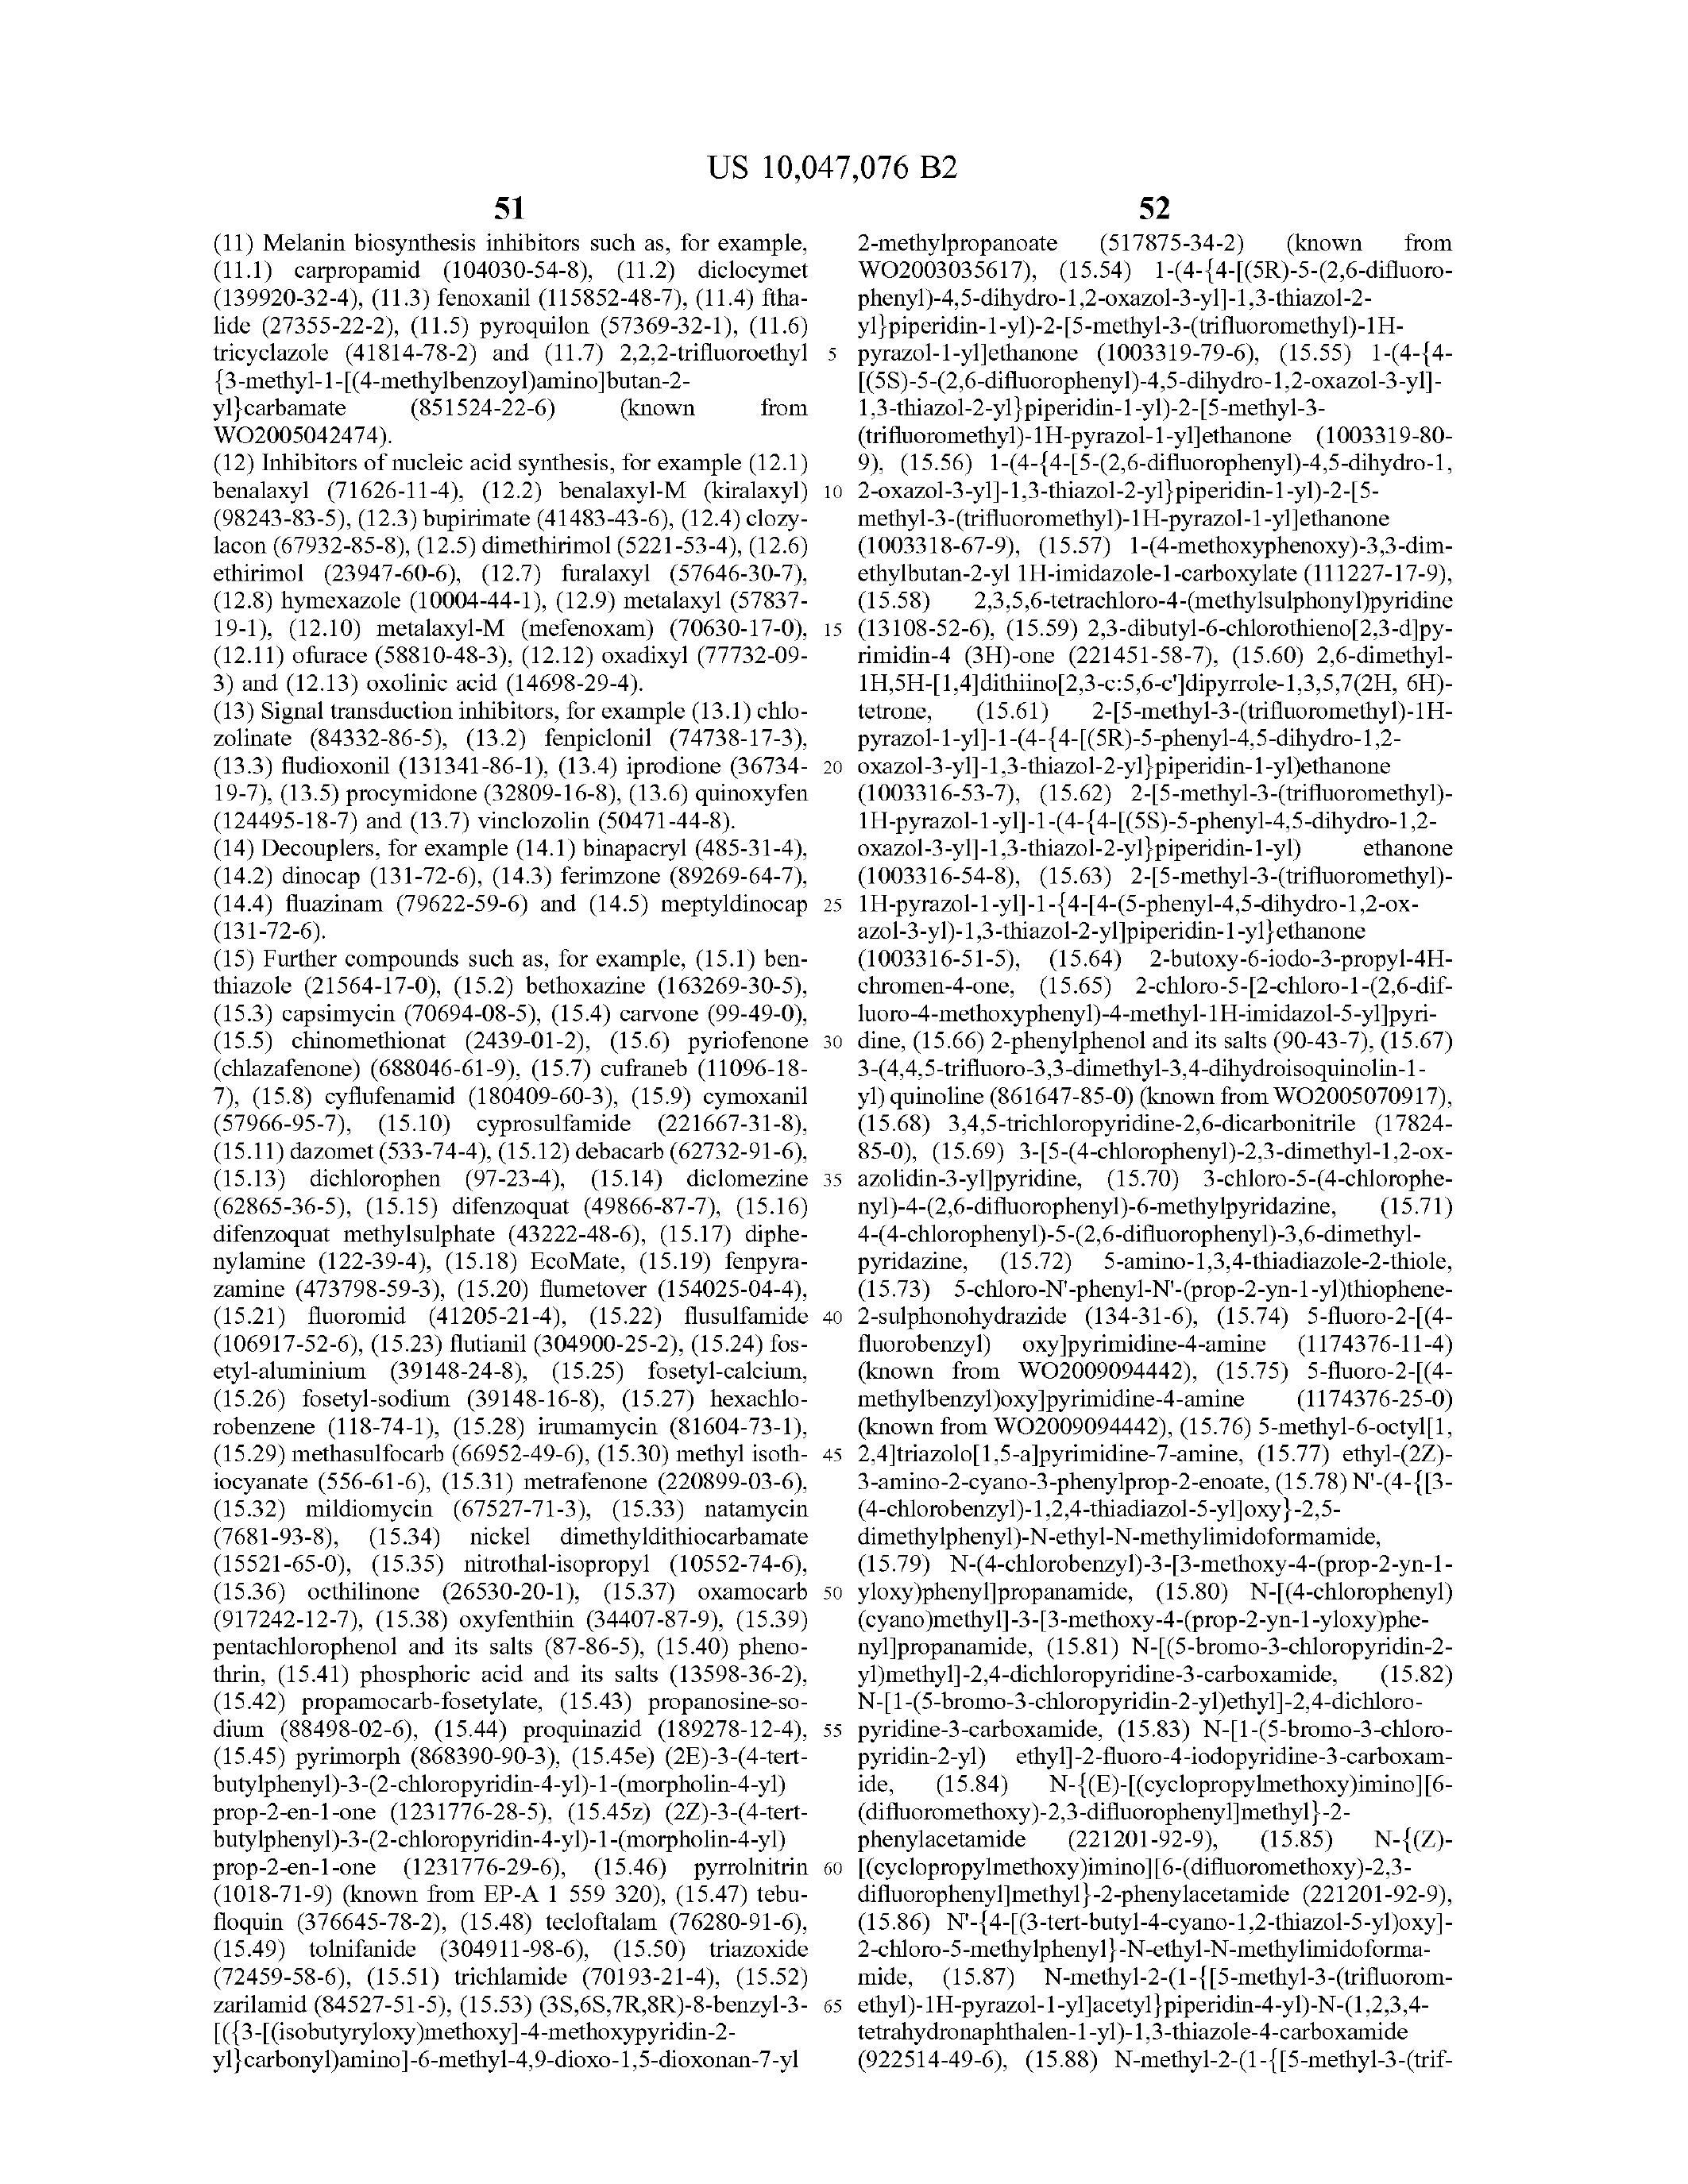reactions: (174, 209, 832, 438)
